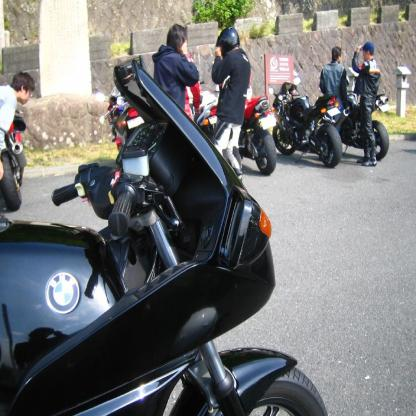Helmet: (213, 26, 239, 54)
